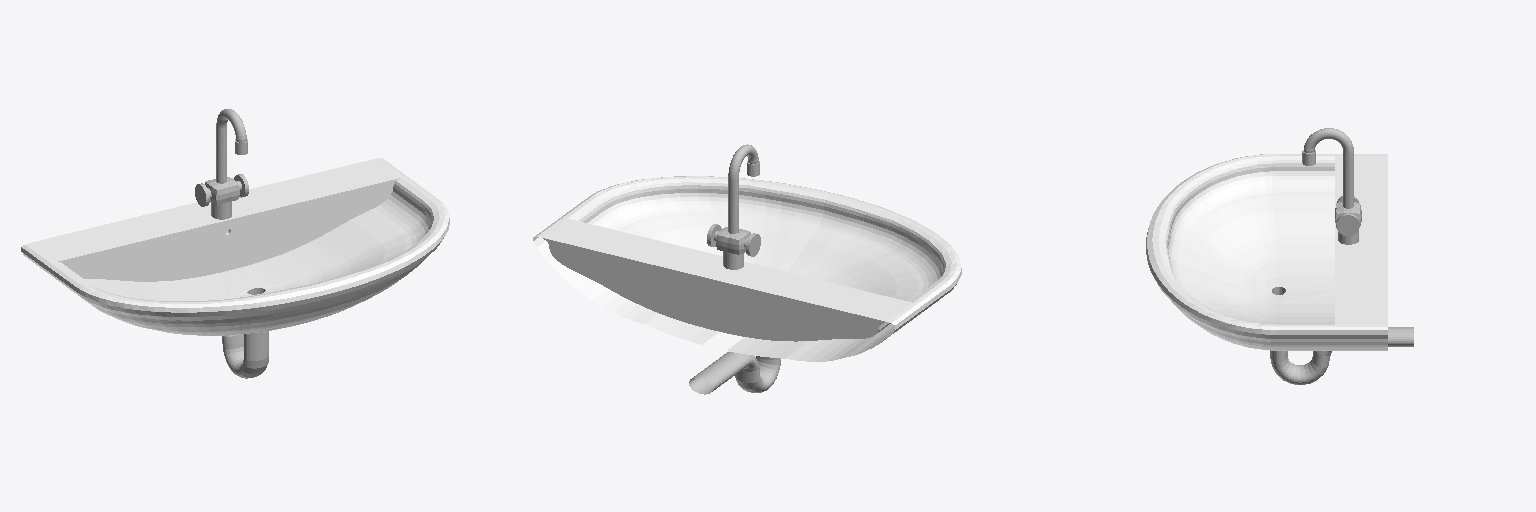
The model's file is becken.obj.
3 views of the same model, side by side, from view 1: azimuth 30°, elevation 25°; view 2: azimuth 150°, elevation 25°; view 3: azimuth 270°, elevation 25° (orthographic).
Parts seen in each view (by area): view 1: Sink, Hahn, Siphon; view 2: Sink, Hahn, Siphon; view 3: Sink, Hahn, Siphon.
Part boxes in pixels (x1,y1,x2,y2): Sink: (21,158,449,335); Hahn: (195,109,248,219); Siphon: (222,288,268,378); Sink: (533,176,961,361); Hahn: (707,144,760,269); Siphon: (689,352,780,394); Sink: (1146,154,1387,350); Hahn: (1302,128,1361,244); Siphon: (1270,287,1413,384).
Size of the model in its own units: 1.96 by 1.32 by 1.26.